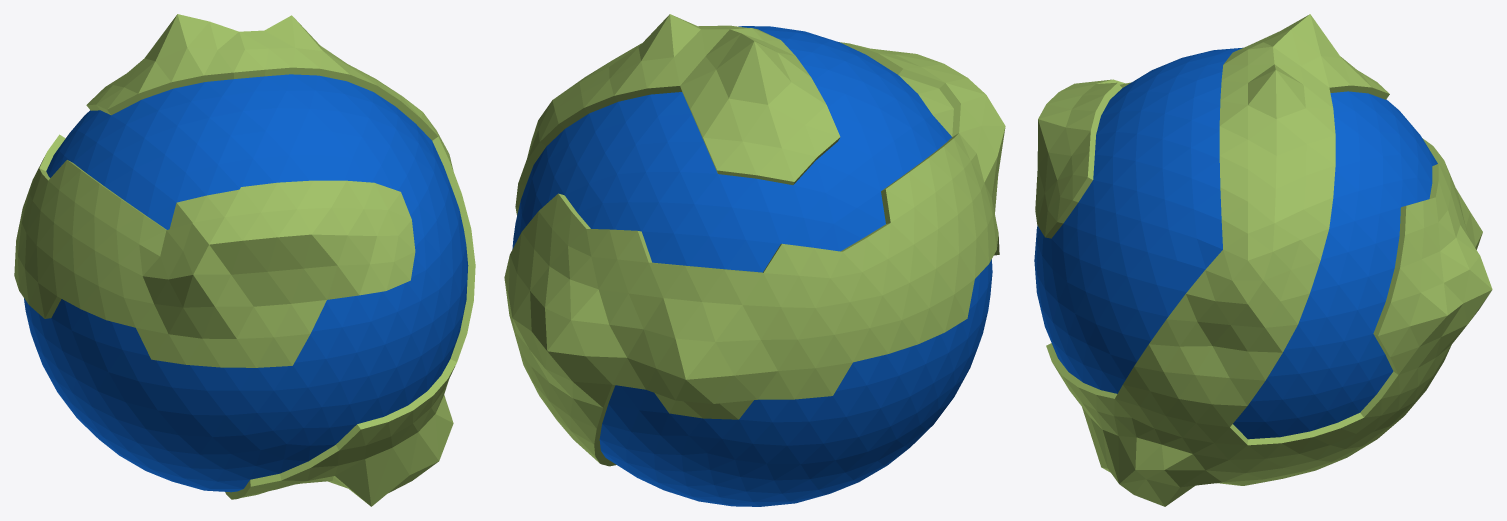
The model's file is Moon.fbx.
The picture shows the model from 3 angles, left to right: view 1: azimuth 30°, elevation 25°; view 2: azimuth 150°, elevation 25°; view 3: azimuth 270°, elevation 25°; orthographic projection. The views are drawn at different scales.
Parts seen in each view (by area): view 1: planet; view 2: planet; view 3: planet.
Part boxes in pixels (x1=…): planet: x1=14, y1=14, x2=475, y2=506; planet: x1=504, y1=14, x2=1005, y2=506; planet: x1=1034, y1=14, x2=1492, y2=506.
Bounding box in the file's own units: 208 × 222 × 215.
